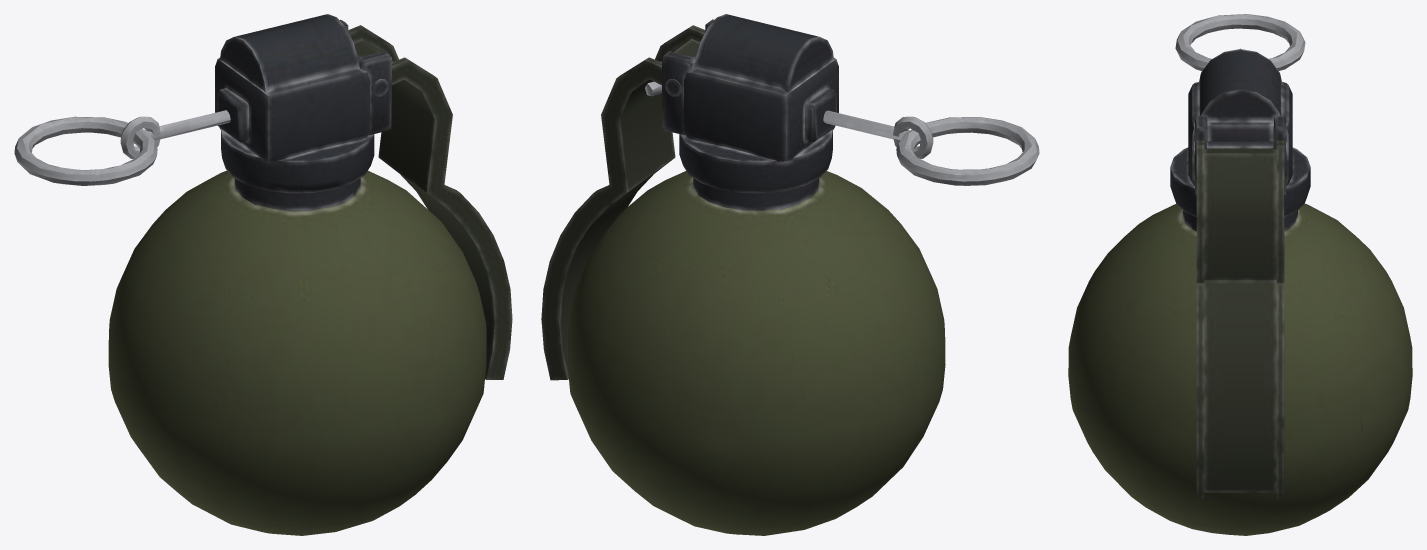
The model's file is grenade_frag.glb.
3 views of the same model, side by side, from view 1: azimuth 30°, elevation 25°; view 2: azimuth 150°, elevation 25°; view 3: azimuth 270°, elevation 25° (orthographic). The views are drawn at different scales.
Parts seen in each view (by area): view 1: GrenadeFrag, spoon, pin; view 2: GrenadeFrag, spoon, pin; view 3: GrenadeFrag, spoon, pin.
Part boxes in pixels (x1,y1,x2,y2): GrenadeFrag: [108, 14, 486, 535]; spoon: [348, 25, 512, 379]; pin: [14, 110, 230, 185]; GrenadeFrag: [567, 14, 945, 535]; spoon: [541, 25, 705, 380]; pin: [645, 81, 1039, 185]; GrenadeFrag: [1068, 49, 1412, 535]; spoon: [1194, 140, 1286, 498]; pin: [1175, 14, 1305, 70].
Size of the model in its own units: 0.0889 by 0.0899 by 0.0628.
Materials: 1 (1 with a texture image).
